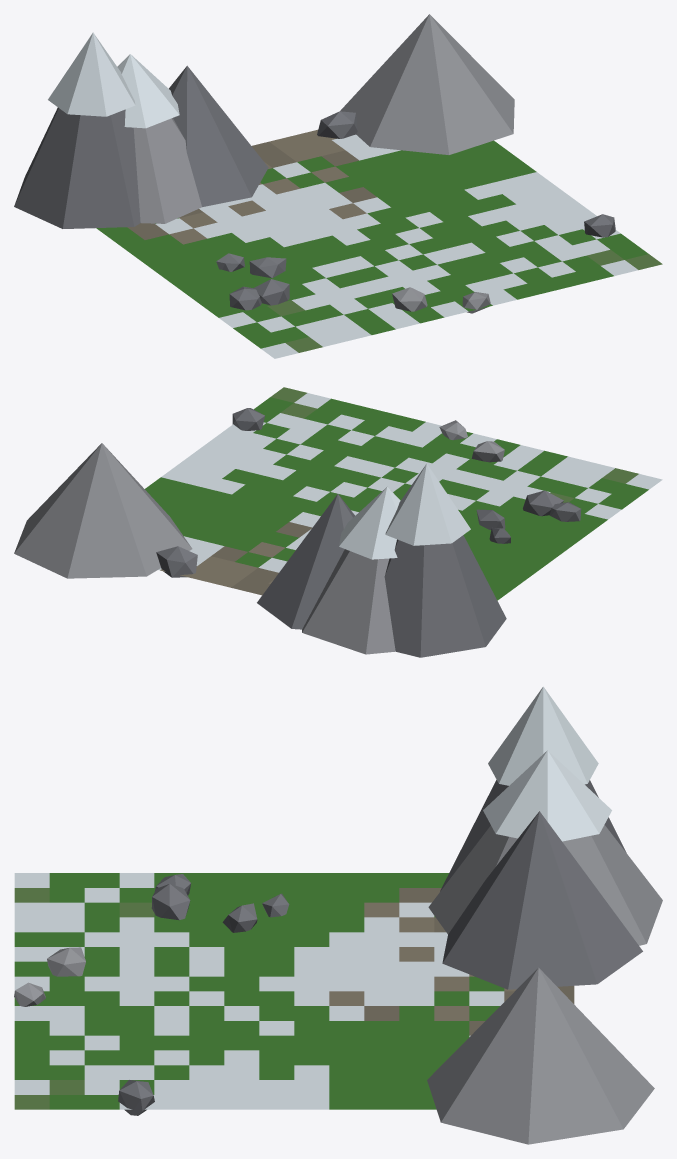
Rendered from chunk_9_1.glb.
3 renders of one model, top to bottom at view 1: azimuth 30°, elevation 25°; view 2: azimuth 150°, elevation 25°; view 3: azimuth 270°, elevation 25°, orthographic. The views are drawn at different scales.
Parts seen in each view (by area): view 1: chunk_9_1; view 2: chunk_9_1; view 3: chunk_9_1.
Part boxes in pixels (x1,y1,x2,y2): chunk_9_1: (14, 14, 662, 358); chunk_9_1: (14, 387, 662, 657); chunk_9_1: (14, 686, 662, 1144).
Bounding box in the file's own units: 20.01 × 6.96 × 18.55.
